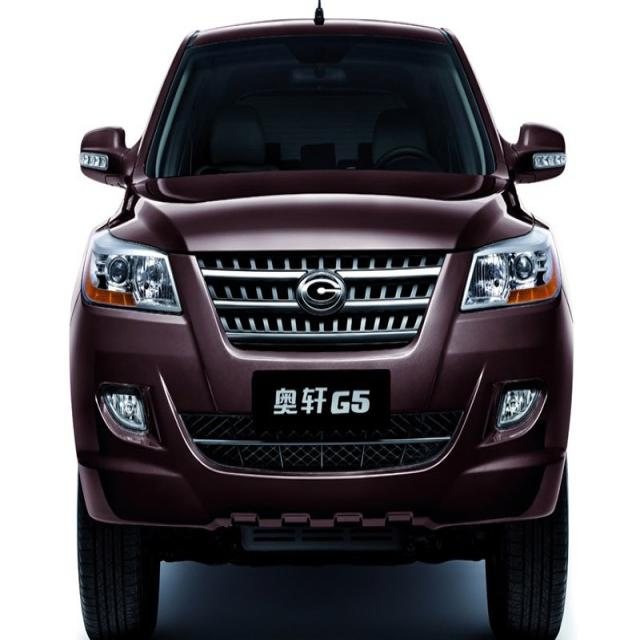front_bumper: (70, 346, 576, 532)
front_glass: (145, 33, 498, 179)
front_left_side_light: (460, 215, 563, 312)
front_left_side_mirror: (497, 122, 567, 185)
front_right_side_light: (80, 217, 182, 316)
front_right_side_mirror: (80, 125, 137, 191)
wheel: (486, 456, 568, 638), (76, 475, 161, 640)
